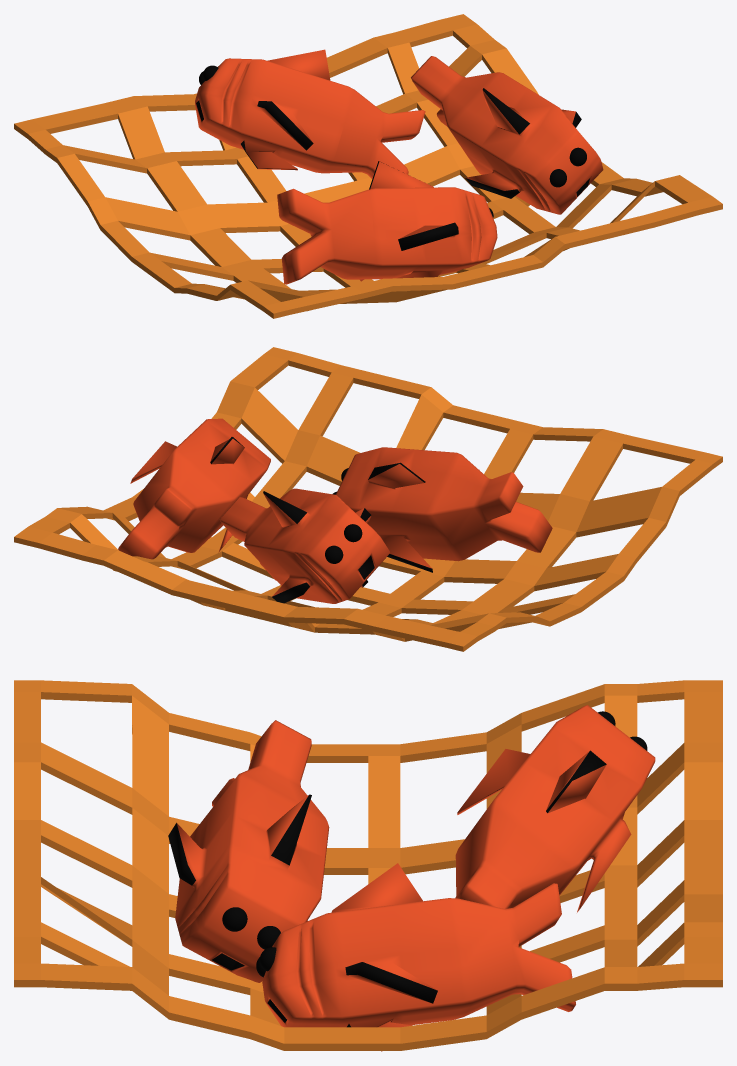
Rendered from fish.glb.
3 renders of one model, top to bottom at view 1: azimuth 30°, elevation 25°; view 2: azimuth 150°, elevation 25°; view 3: azimuth 270°, elevation 25°, orthographic. The views are drawn at different scales.
Visible parts, largest first — view 1: Plane; view 2: Plane; view 3: Plane.
Part boxes in pixels (x1,y1,x2,y2): Plane: (14, 14, 722, 318); Plane: (14, 347, 722, 651); Plane: (14, 680, 722, 1051).
Bounding box in the file's own units: 2 × 0.6747 × 2.
